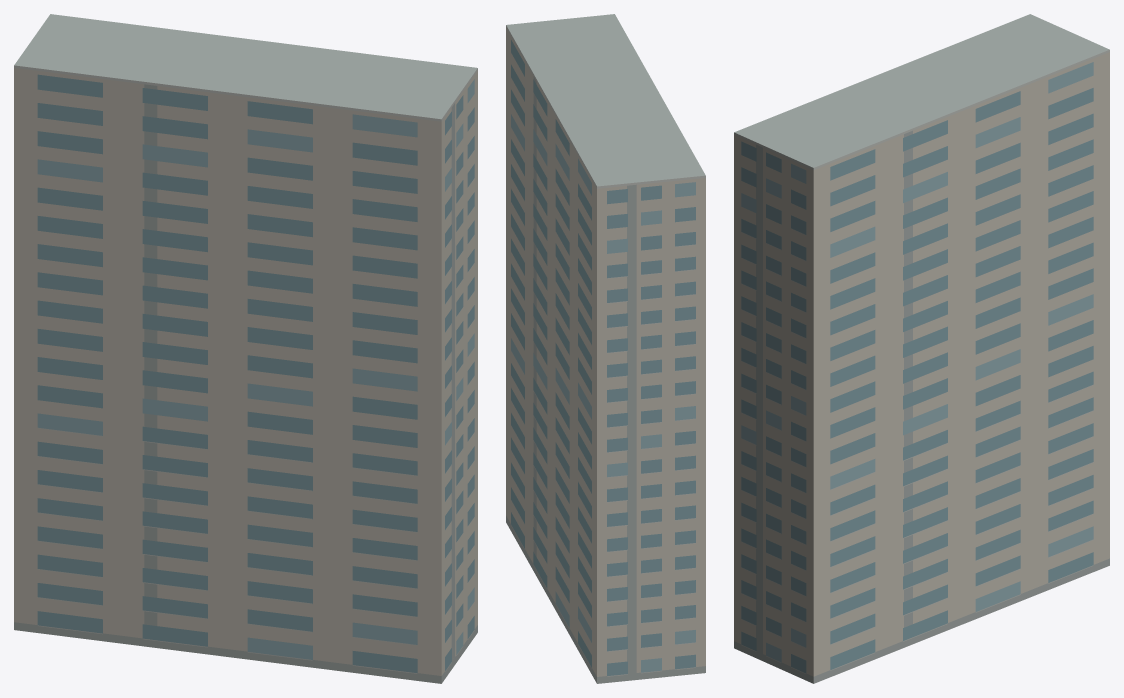
The model's file is residential-14c92b56-36fb-4719-9fb0-bf4e39578354.glb.
3 renders of one model, left to right at view 1: azimuth 30°, elevation 25°; view 2: azimuth 150°, elevation 25°; view 3: azimuth 270°, elevation 25°, orthographic. The views are drawn at different scales.
Parts seen in each view (by area): view 1: residential-14c92b56-36fb-4719-9fb0-bf4e39578354.tmp; view 2: residential-14c92b56-36fb-4719-9fb0-bf4e39578354.tmp; view 3: residential-14c92b56-36fb-4719-9fb0-bf4e39578354.tmp.
Boxes of the visible parts, bbox=[...] form: residential-14c92b56-36fb-4719-9fb0-bf4e39578354.tmp: bbox=[14, 14, 477, 683]; residential-14c92b56-36fb-4719-9fb0-bf4e39578354.tmp: bbox=[506, 14, 705, 683]; residential-14c92b56-36fb-4719-9fb0-bf4e39578354.tmp: bbox=[734, 14, 1109, 683].
Bounding box in the file's own units: 35.21 × 55 × 36.32.
